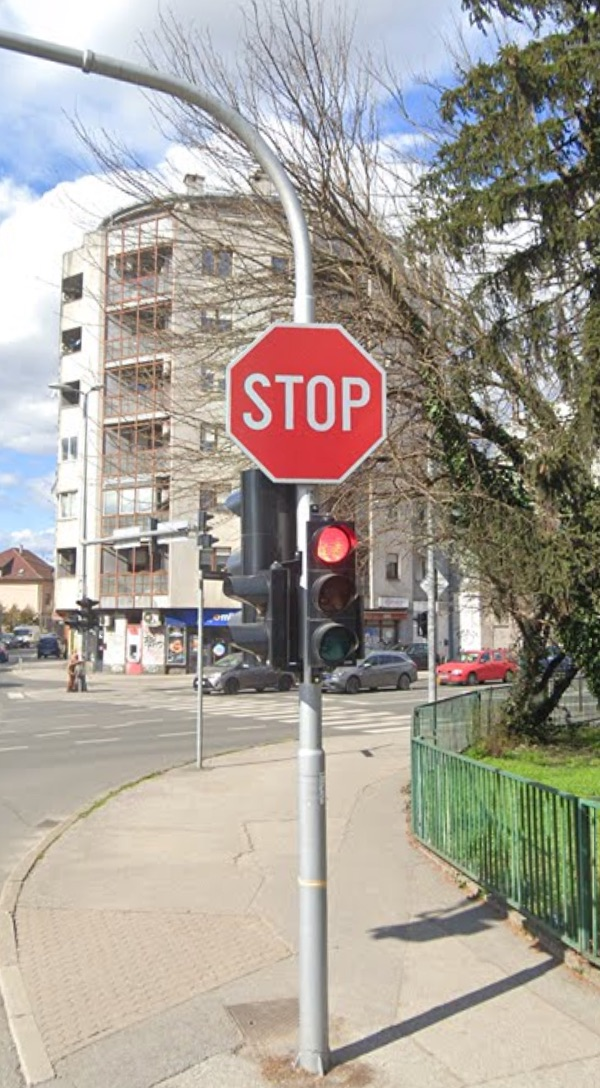Obavezno zaustavljanje: (226, 322, 387, 482)
